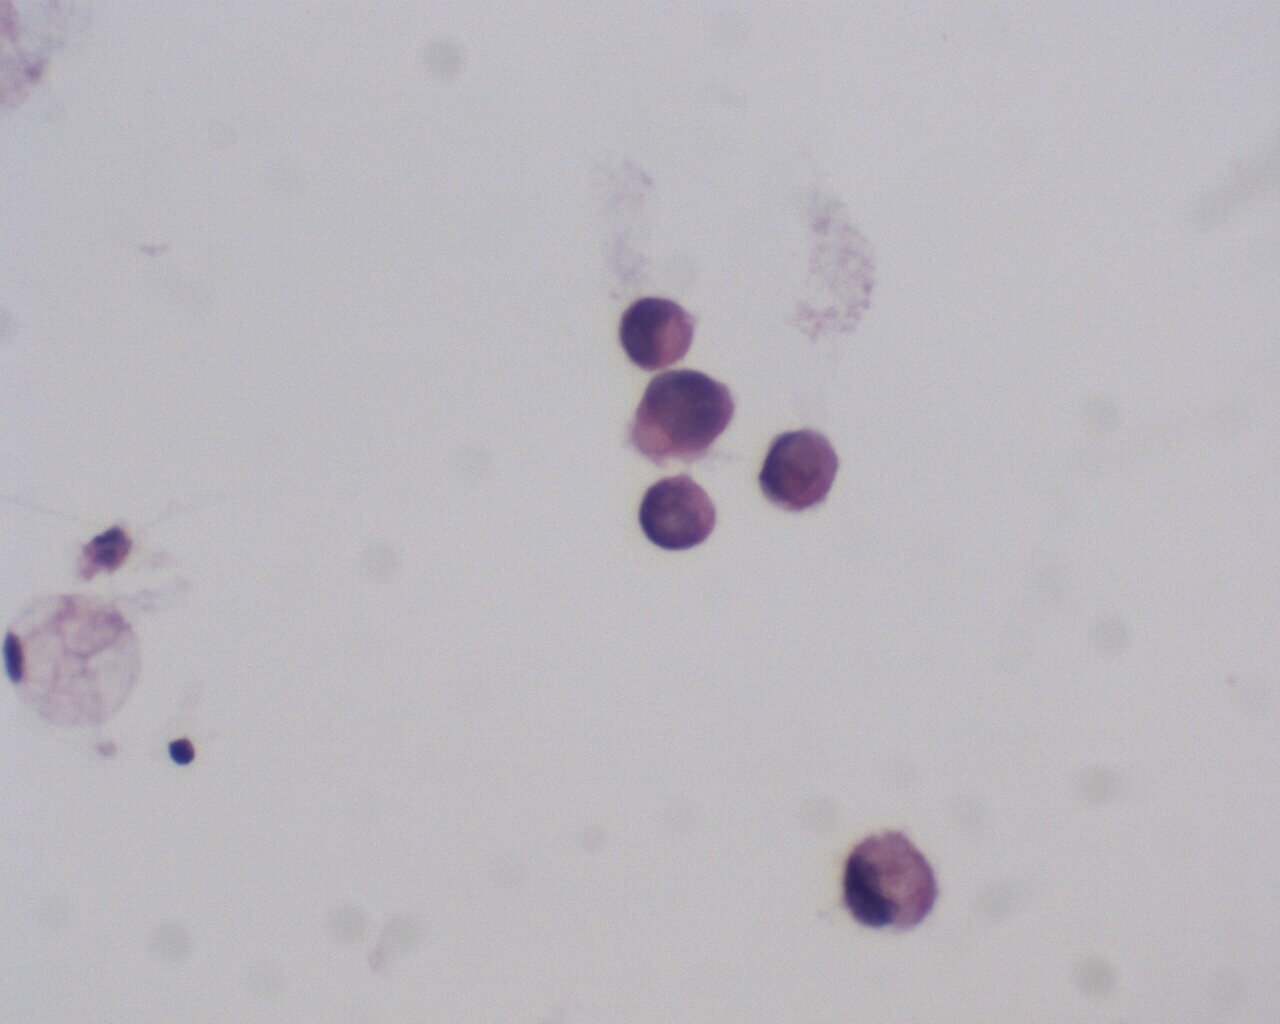ab: (631, 367, 740, 465), (755, 426, 846, 511), (634, 470, 720, 559), (616, 294, 699, 373)
histo: (4, 589, 148, 732), (841, 819, 940, 938)
lymph: (164, 732, 201, 773)
